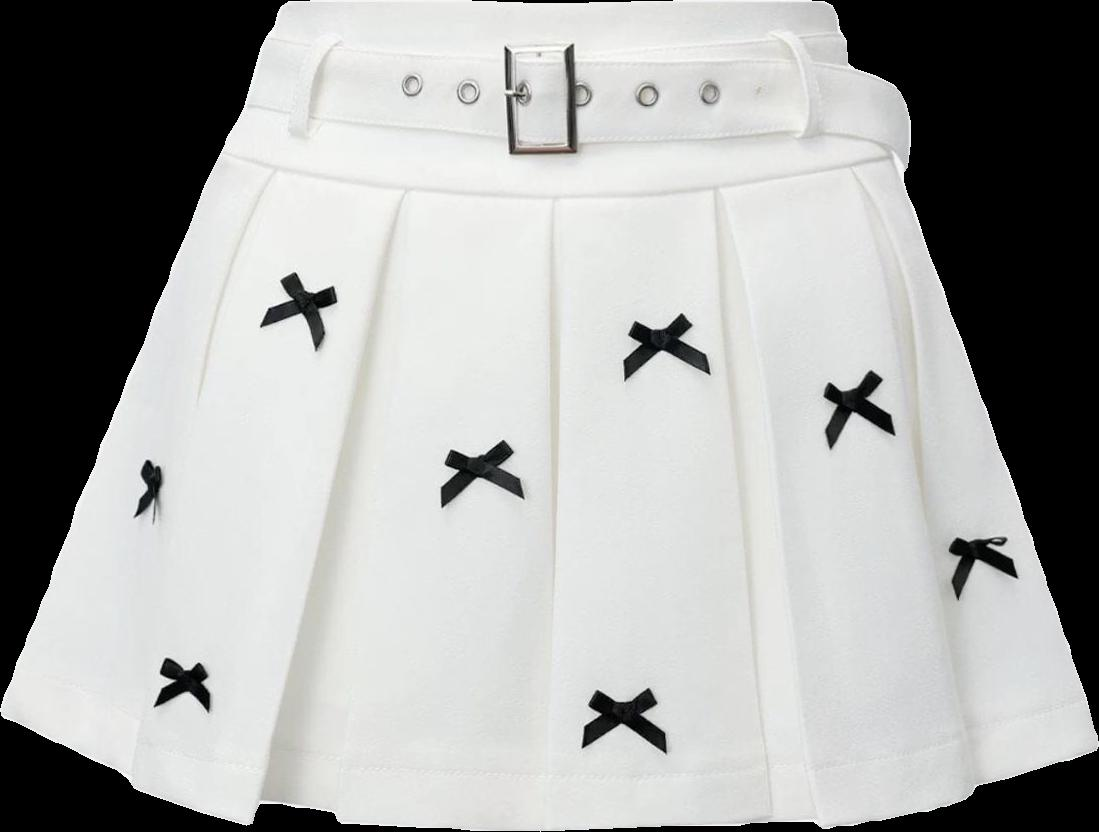Hemline: (0, 708, 1098, 831)
Waistline: (222, 146, 892, 202), (281, 0, 836, 19)
